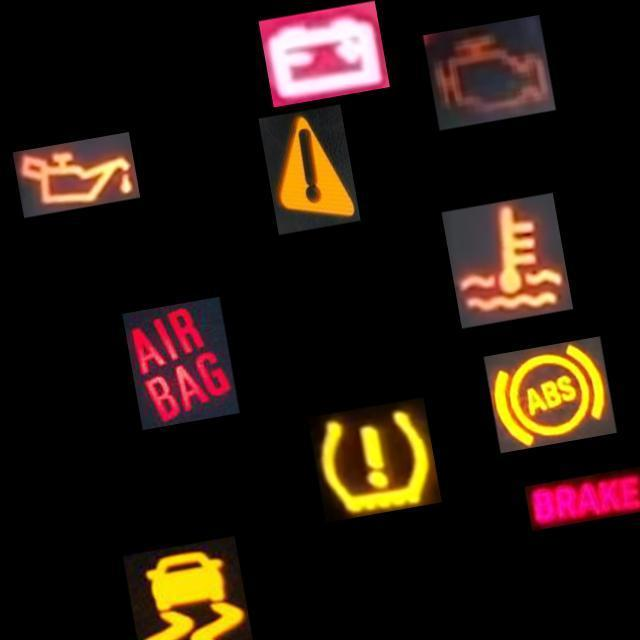Central Warning lamp: (258, 103, 360, 234)
Engine cooling system: (441, 192, 573, 328)
